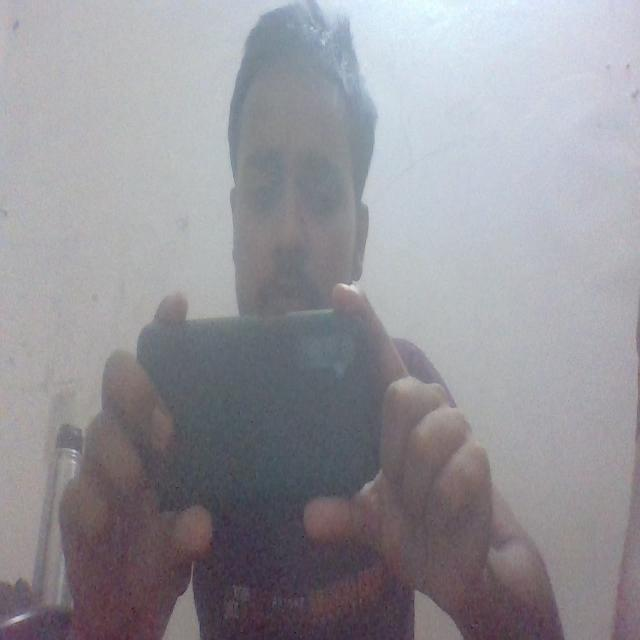Phone: (136, 304, 385, 516)
